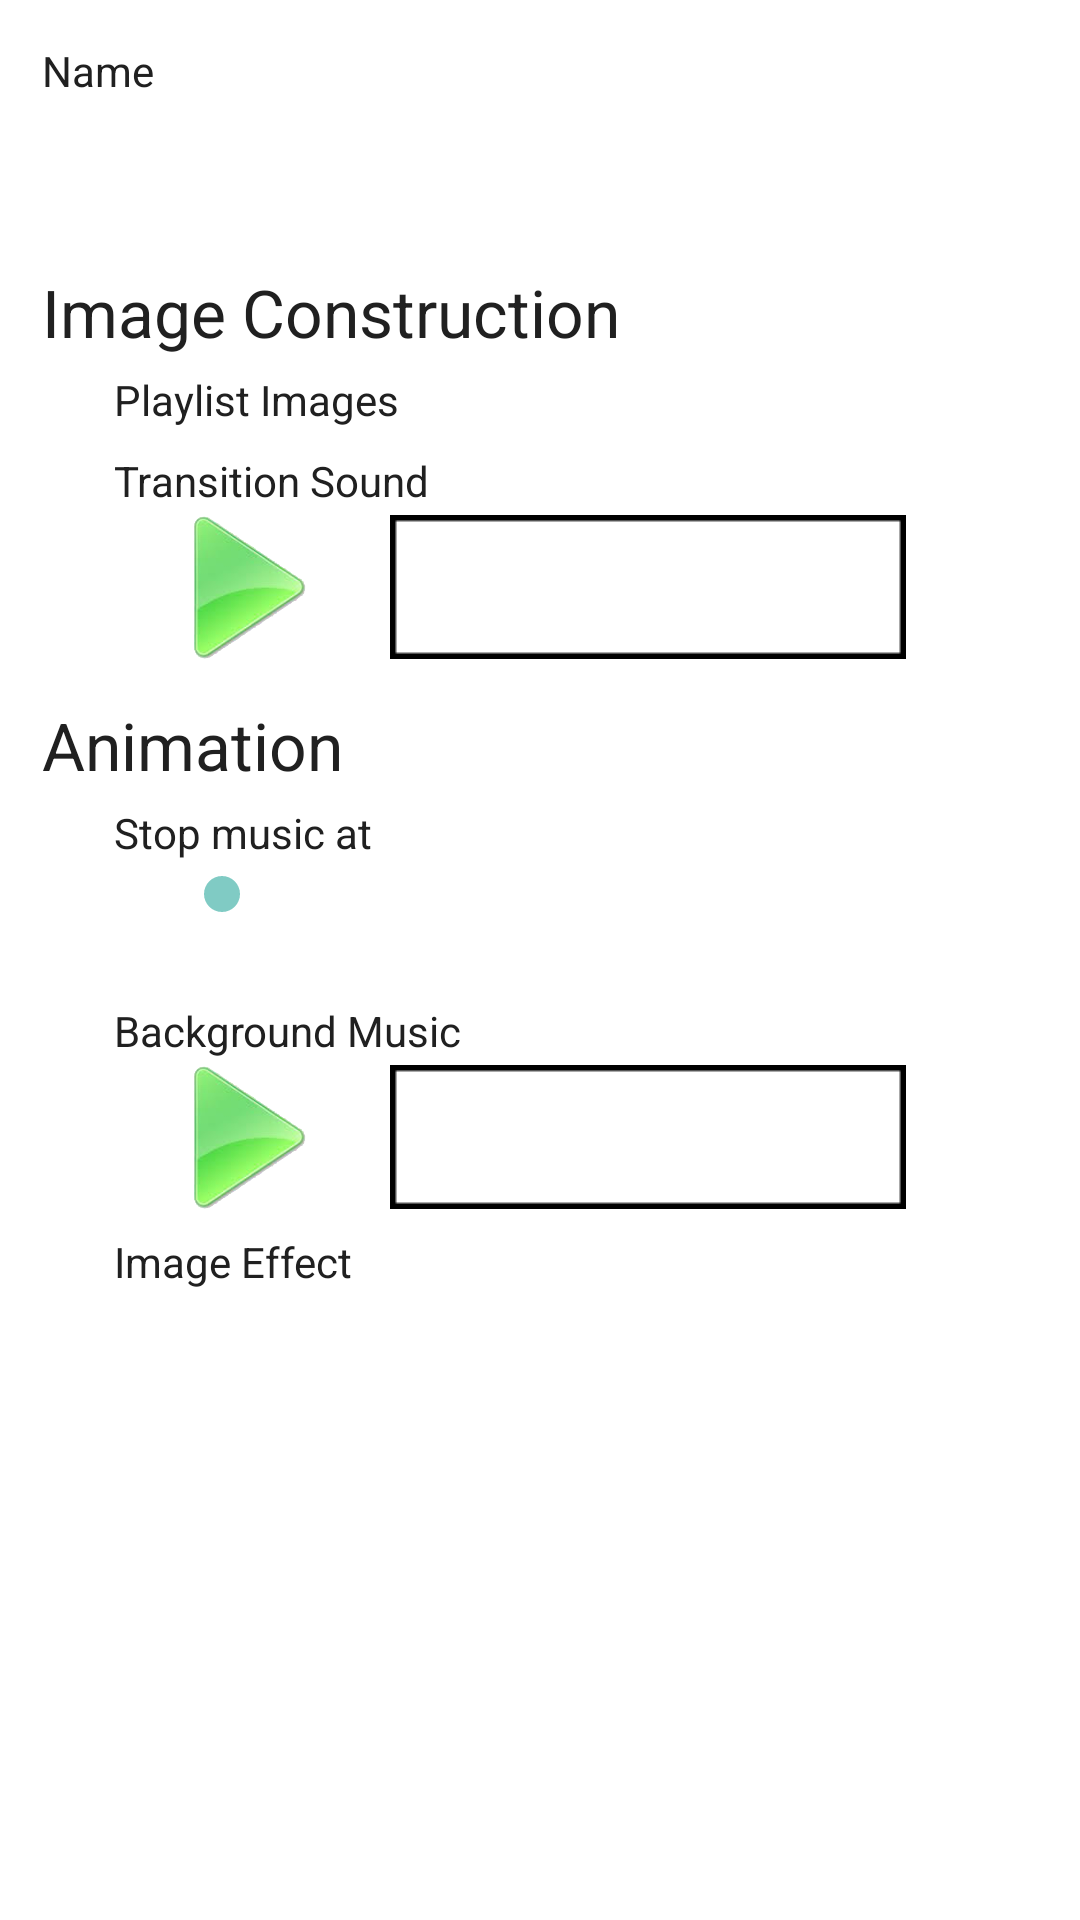

Where to tap for icons on this 1080*1920 app screen, as [x,y]:
cell play: [249,587], [249,1137]
